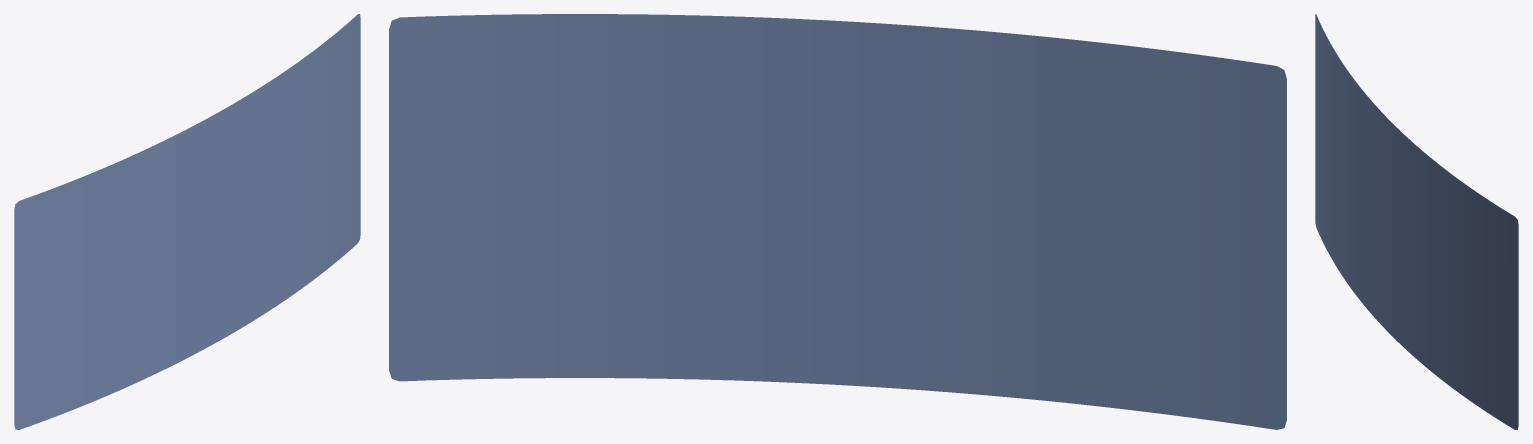
File: Daping.FBX
The picture shows the model from 3 angles, left to right: view 1: azimuth 30°, elevation 25°; view 2: azimuth 150°, elevation 25°; view 3: azimuth 270°, elevation 25°; orthographic projection. The views are drawn at different scales.
Parts seen in each view (by area): view 1: 对象013; view 2: 对象013; view 3: 对象013.
Boxes of the visible parts, box(x1,y1,x2,y2) form: 对象013: box(14, 14, 360, 429); 对象013: box(389, 14, 1286, 429); 对象013: box(1315, 14, 1518, 429).
Bounding box in the file's own units: 4248 × 2040 × 1763.
